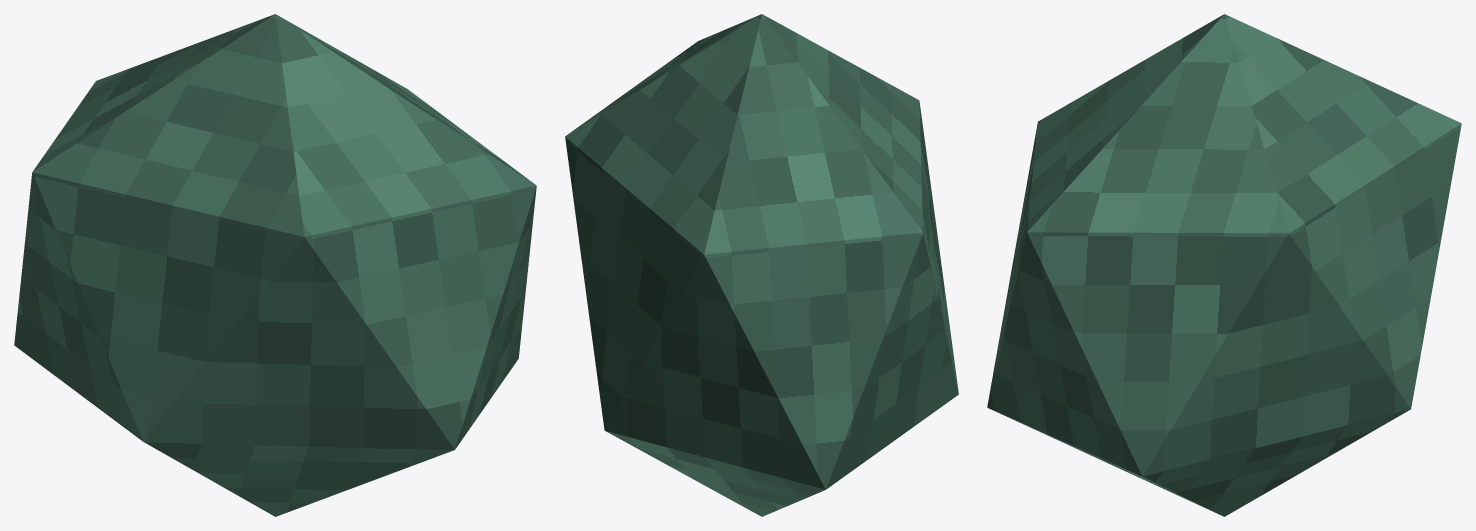
Rendered from rock_61.glb.
The picture shows the model from 3 angles, left to right: view 1: azimuth 30°, elevation 25°; view 2: azimuth 150°, elevation 25°; view 3: azimuth 270°, elevation 25°; orthographic projection.
Visible parts, largest first — view 1: WeatheredStone; view 2: WeatheredStone; view 3: WeatheredStone.
Boxes of the visible parts, x1=… form: WeatheredStone: x1=14, y1=14, x2=536, y2=516; WeatheredStone: x1=565, y1=14, x2=958, y2=516; WeatheredStone: x1=987, y1=14, x2=1461, y2=516.
Size of the model in its own units: 2.28 by 2.71 by 2.32.
1 material, 1 textured.
